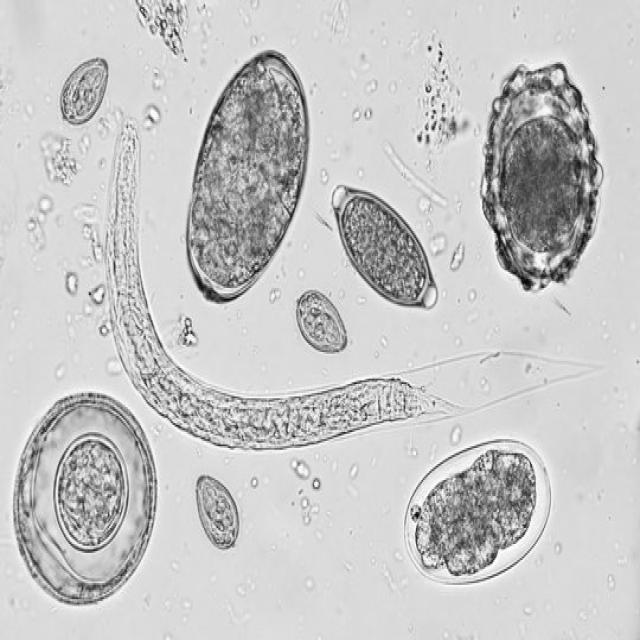Ancylostoma Spp: (400, 432, 556, 596)
Ascaris Lumbricoides: (480, 62, 601, 300)
Fasciola Hepatica: (182, 44, 319, 314)
Hymenolepis: (6, 387, 166, 618)
Trichuris Trichiura: (332, 179, 441, 312)
